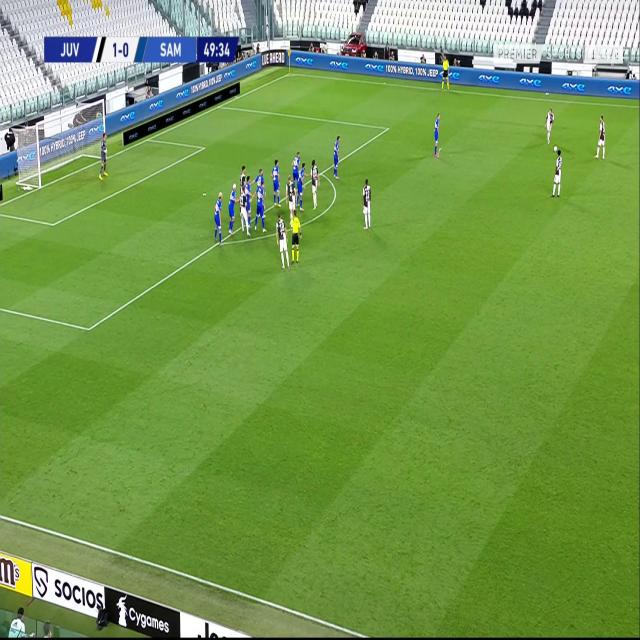ball: (553, 142, 558, 153)
player: (275, 210, 289, 269), (253, 178, 266, 233), (290, 209, 302, 263), (308, 156, 320, 208), (360, 177, 372, 229), (551, 148, 563, 197), (213, 188, 223, 245), (285, 176, 297, 221), (98, 132, 109, 181), (595, 112, 606, 159), (227, 182, 236, 234), (271, 156, 280, 207), (544, 105, 555, 146), (297, 160, 306, 210), (432, 111, 442, 156), (332, 134, 341, 180), (440, 53, 450, 91), (239, 185, 246, 236), (246, 171, 251, 227), (292, 150, 300, 182), (254, 168, 264, 193), (239, 163, 247, 194)
